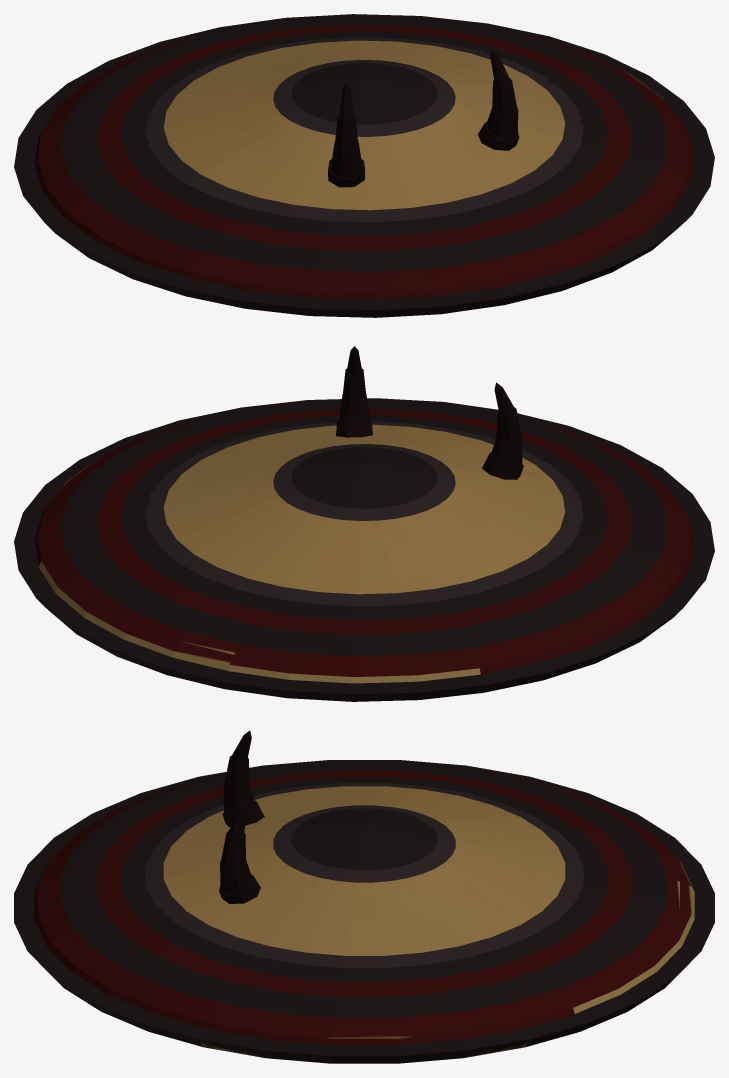
File: item-onihat.glb
3 renders of one model, top to bottom at view 1: azimuth 30°, elevation 25°; view 2: azimuth 150°, elevation 25°; view 3: azimuth 270°, elevation 25°, orthographic.
Size of the model in its own units: 11 by 2.66 by 11.
Materials: 2 (2 with a texture image).
